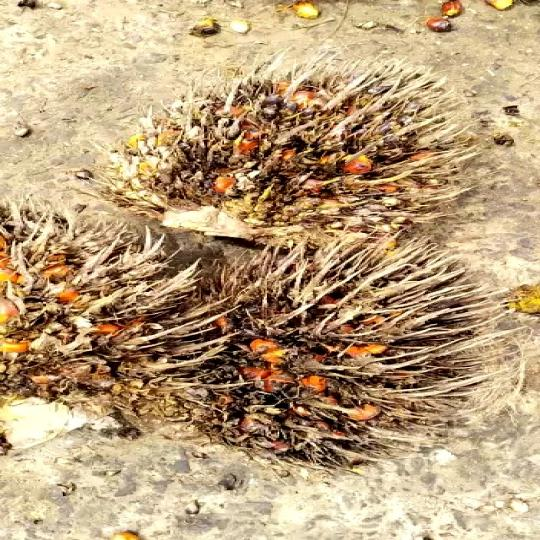terlalu masak: (178, 240, 501, 451), (121, 89, 474, 233)
